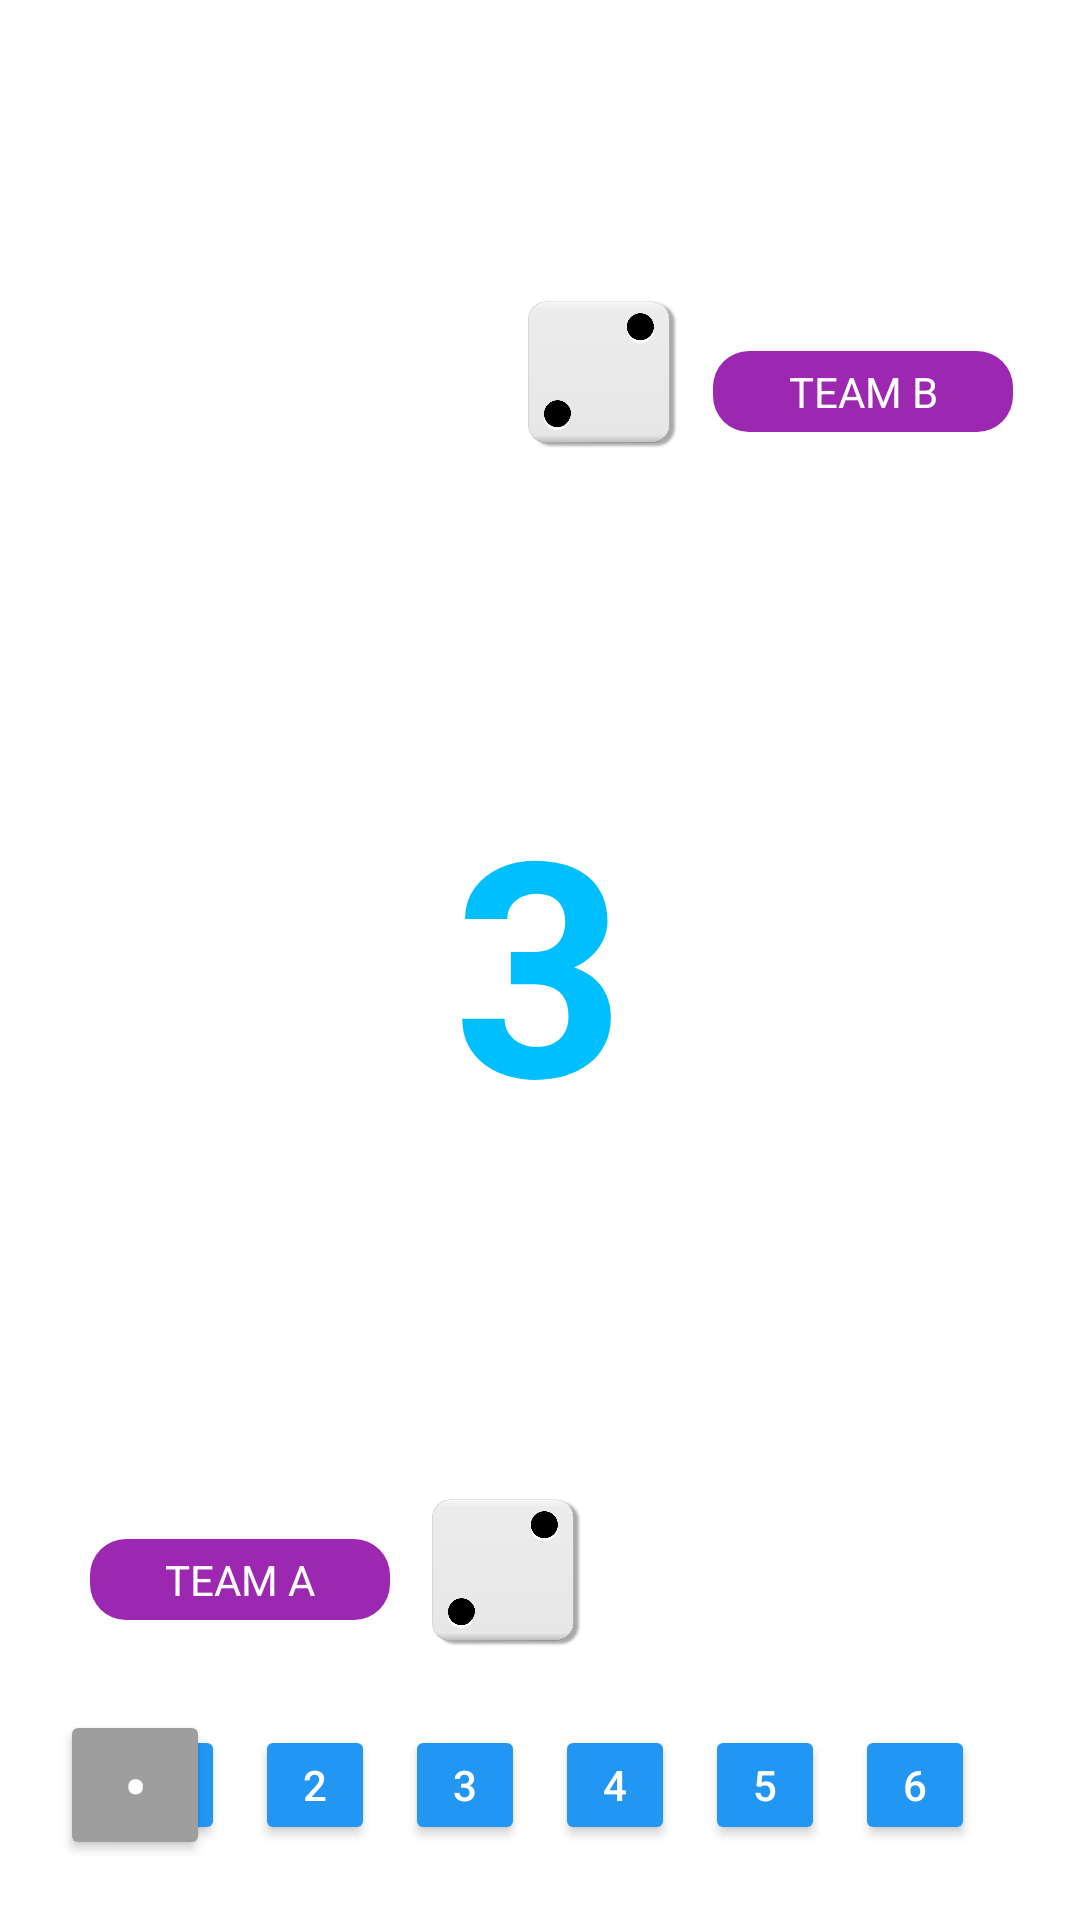

Screen size 1080w x 1920h. Icon name, then its box in pixels as (x1, y1, x2, y2):
dice: (528, 301, 677, 448), (432, 1499, 581, 1646)
